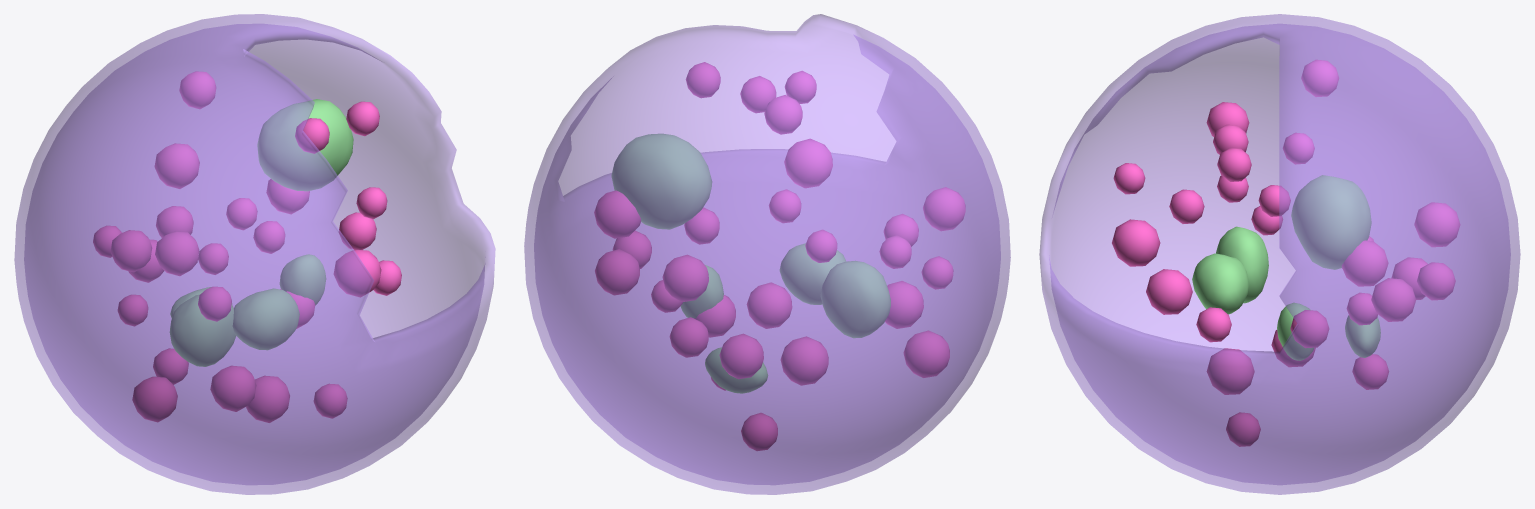
Rendered from lysosome.glb.
The picture shows the model from 3 angles, left to right: view 1: azimuth 30°, elevation 25°; view 2: azimuth 150°, elevation 25°; view 3: azimuth 270°, elevation 25°; orthographic projection.
Parts seen in each view (by area): view 1: lyso_membrane, lyso_enzyme, lyso_debris; view 2: lyso_membrane, lyso_enzyme, lyso_debris; view 3: lyso_membrane, lyso_enzyme, lyso_debris.
Boxes of the visible parts, <box> form: lyso_membrane: <box>14,14,495,494</box>; lyso_enzyme: <box>93,71,401,422</box>; lyso_debris: <box>169,99,353,366</box>; lyso_membrane: <box>524,14,1010,494</box>; lyso_enzyme: <box>594,62,965,450</box>; lyso_debris: <box>611,133,890,393</box>; lyso_membrane: <box>1039,14,1520,494</box>; lyso_enzyme: <box>1112,59,1460,446</box>; lyso_debris: <box>1192,175,1380,360</box>.
Size of the model in its own units: 2 by 2 by 2.
